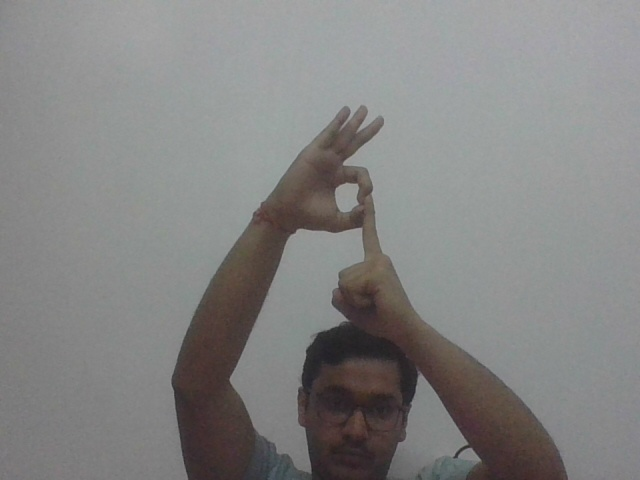P: (314, 103, 403, 290)
